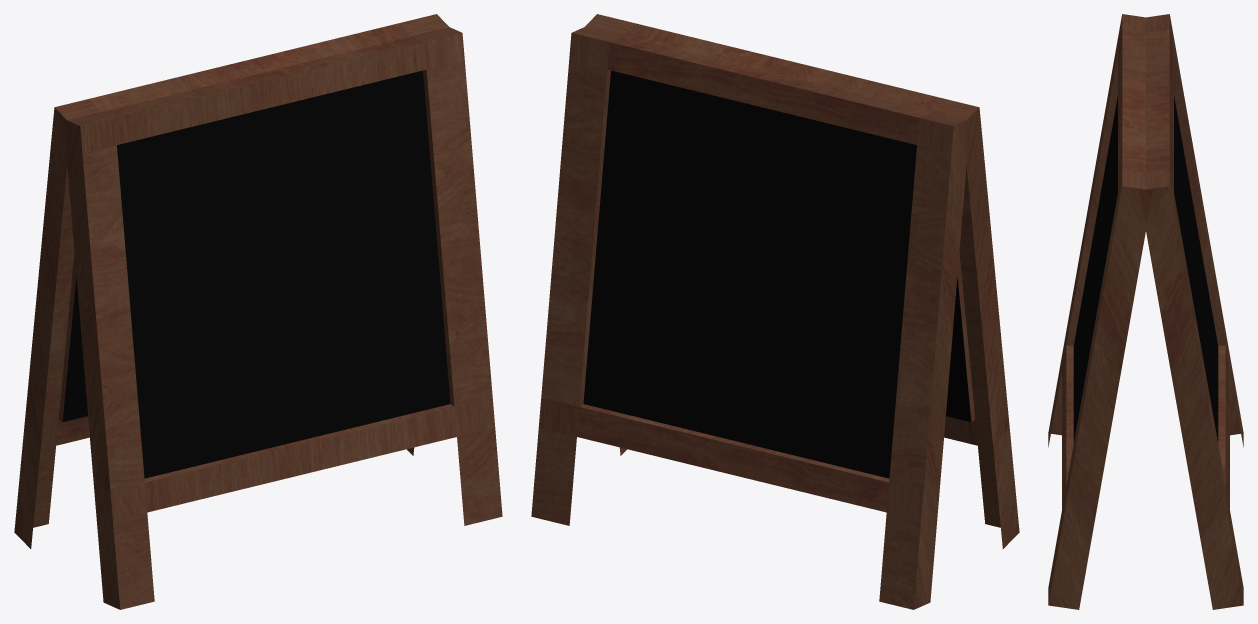
Rendered from blackboard.glb.
3 renders of one model, left to right at view 1: azimuth 30°, elevation 25°; view 2: azimuth 150°, elevation 25°; view 3: azimuth 270°, elevation 25°, orthographic. The views are drawn at different scales.
Parts seen in each view (by area): view 1: ScoreBoard, Cube; view 2: ScoreBoard, Cube; view 3: Cube, ScoreBoard.
Part boxes in pixels (bbox=[...]): ScoreBoard: bbox=[62, 70, 450, 478]; Cube: bbox=[14, 14, 502, 609]; ScoreBoard: bbox=[583, 70, 971, 478]; Cube: bbox=[531, 14, 1019, 609]; Cube: bbox=[1048, 14, 1243, 609]; ScoreBoard: bbox=[1073, 96, 1218, 442].
Size of the model in its own units: 5.54 by 6.37 by 2.66.
Materials: 2 (1 with a texture image).
